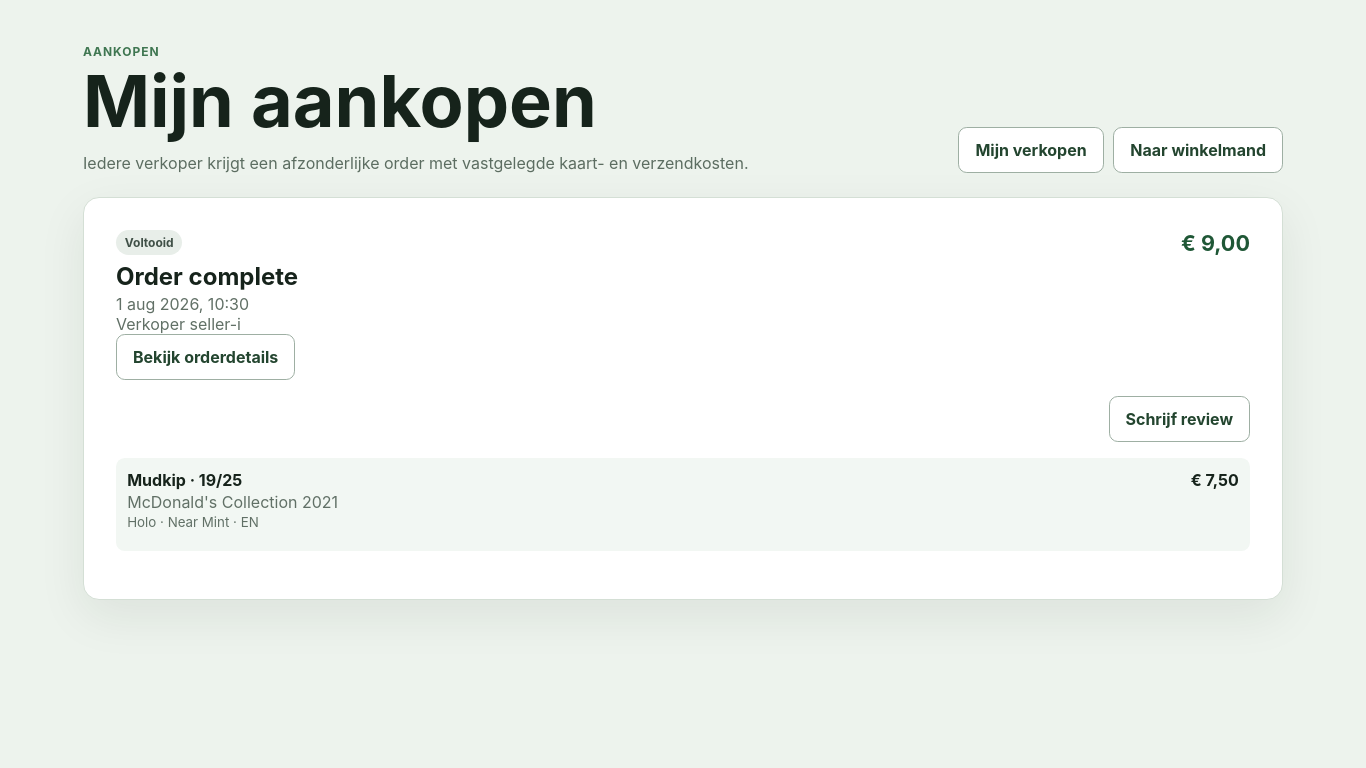
Test: OrdersPage › renders accessible review validation feedback
The image size is (1366, 768).
Click the button "Schrijf review" at (1179, 419), box [1108,396,1250,442]
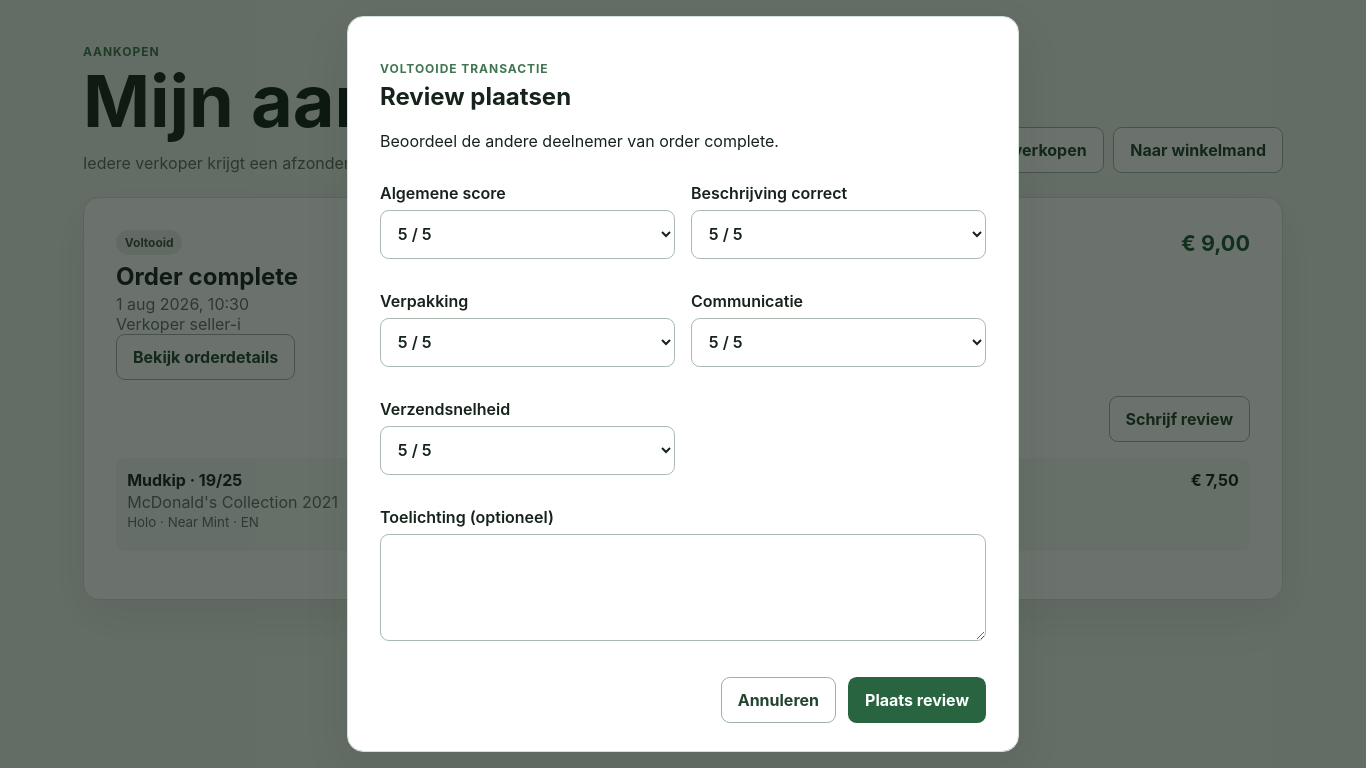
Check: the button "Plaats review" is shown
Click the button "Plaats review" at (917, 700), box [848,677,986,723]
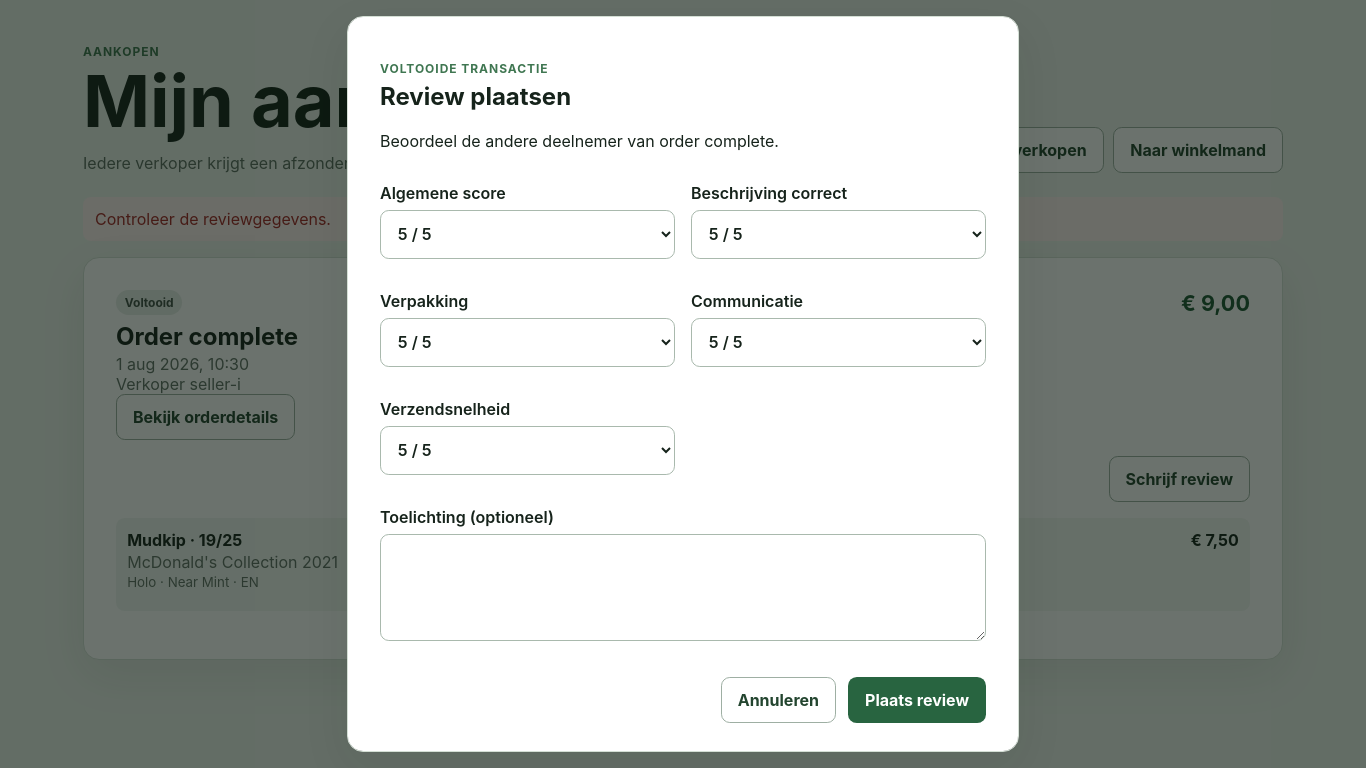
Check: the button "Schrijf review" is shown, box [1108,456,1250,502]
Check: the message "Controleer de reviewgegevens." is shown, box [83,197,1283,241]
